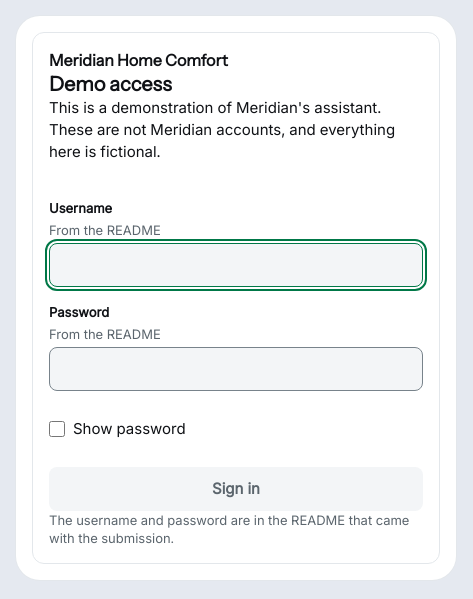
Test case: Scr12 login › network failure: Couldn't reach the demo. Try again., fields kept
Type "<demo-username>" into the field labelled "Username". click: (236, 265)
box: [49,243,423,287]
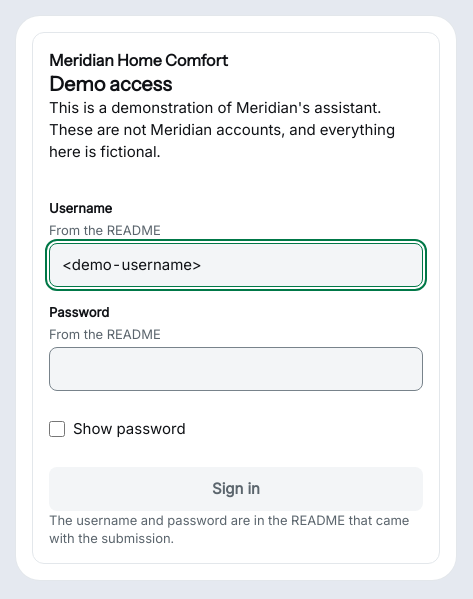
Type "<demo-password>" into the password field labelled "Password". click: (236, 369)
box: [49,347,423,391]
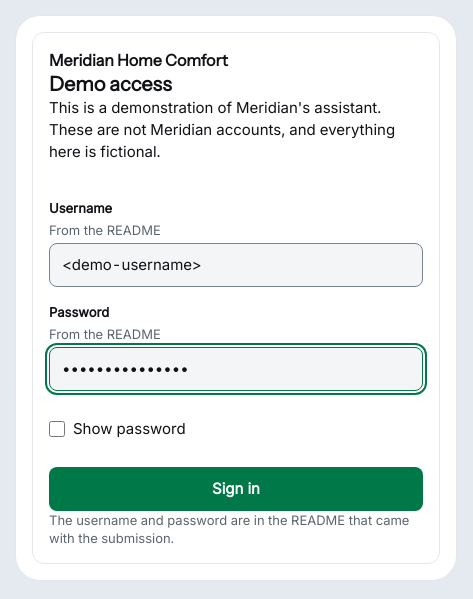
Click the button "Sign in". click: (236, 489)
box: [49,467,423,511]
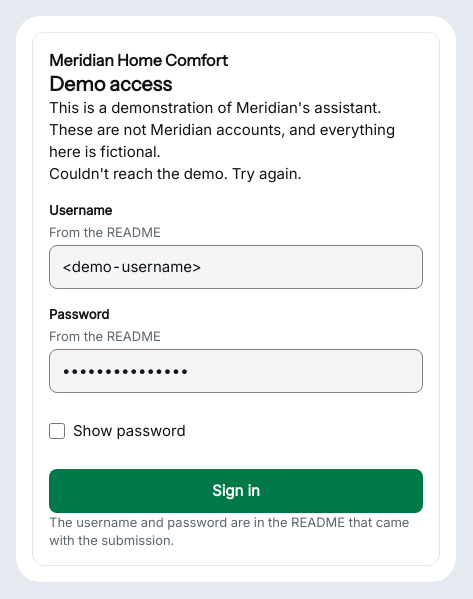
Now the text "Couldn't reach the demo. Try again." is shown, box [49,164,302,183]
